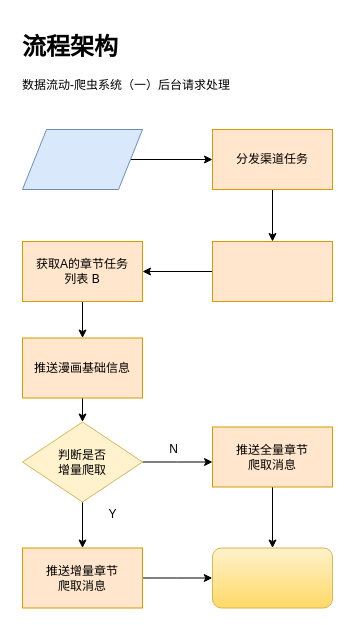
This 350x625 diagram has some shape labels left out. Here are the shapes that lost their labels. From the top down, the centre of each, then its label:
At pixel 82 159: "监听后台 爬取 消息".
At pixel 272 271: "爬取指定渠道 漫画信息 A".
At pixel 272 577: "结束".
